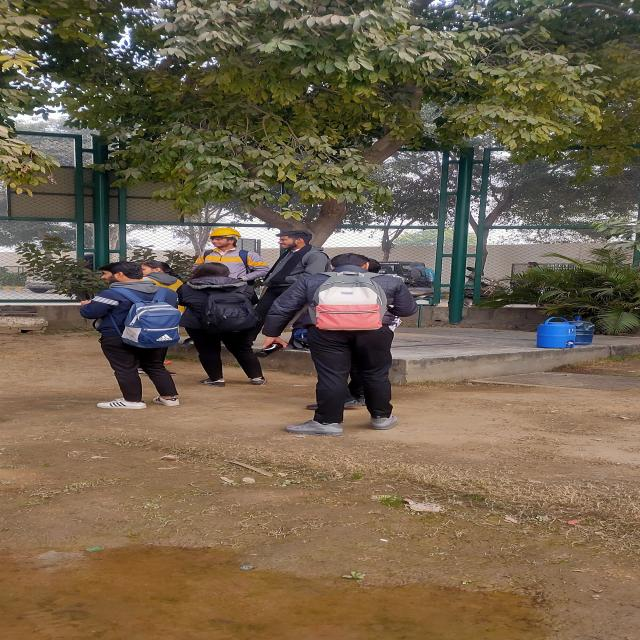no jacket: (190, 229, 270, 280)
unsafe: (296, 250, 420, 437), (80, 262, 182, 410), (178, 264, 267, 385), (263, 231, 332, 274)
